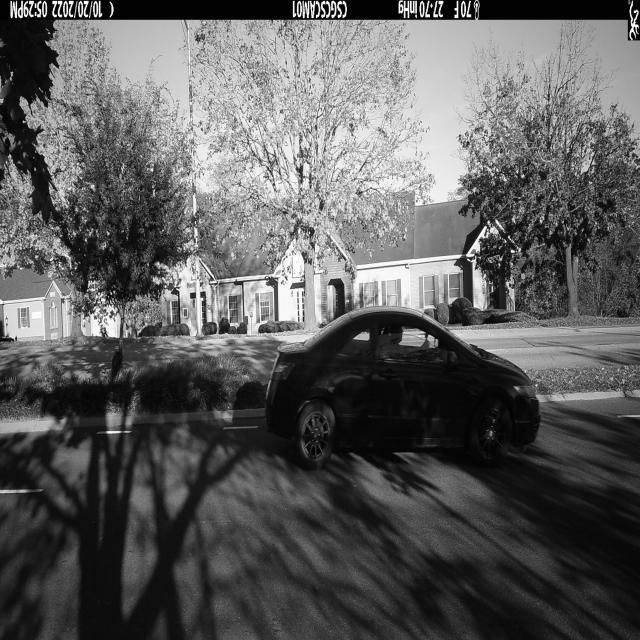Sedan: (265, 307, 541, 470)
